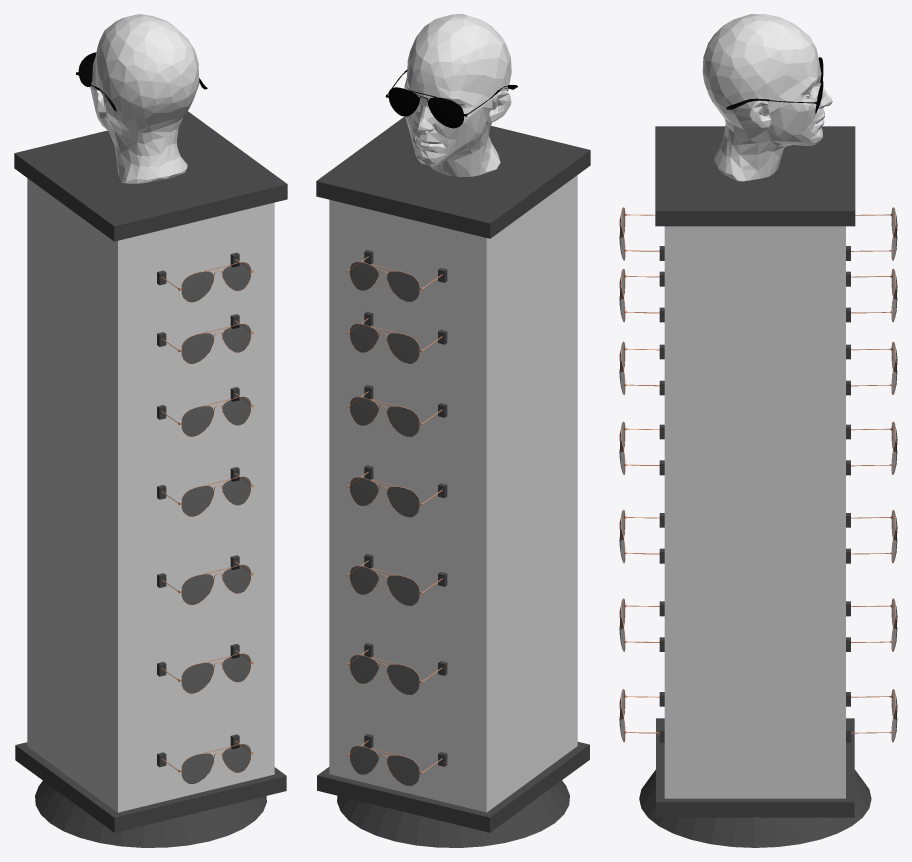
File: Sunglass.fbx
The picture shows the model from 3 angles, left to right: view 1: azimuth 30°, elevation 25°; view 2: azimuth 150°, elevation 25°; view 3: azimuth 270°, elevation 25°; orthographic projection.
Visible parts, largest first — view 1: Cube.030, Cube.033, 11091_FemaleHead_v4, Cylinder.015, Temples.006_Cylinder.009, Temples.006_Cylinder.001, Temples.006_Cylinder.007, Temples.006_Cylinder.003, Temples.006_Cylinder.011, Temples.006_Cylinder.005, Temples.006_Cylinder.013, Temples.006_Cylinder.017; view 2: Cube.030, Cube.033, 11091_FemaleHead_v4, Cylinder.015, Temples.006_Cylinder.017, Temples.006_Cylinder.006, Temples.006_Cylinder.002, Temples.006_Cylinder.008, Temples.006_Cylinder.012, Temples.006_Cylinder.019, Temples.006_Cylinder.004, Temples.006_Cylinder.010; view 3: Cube.030, Cube.033, 11091_FemaleHead_v4, Cylinder.015.
Part boxes in pixels (bbox=[...]): Cube.030: bbox=[15, 178, 286, 832]; Cube.033: bbox=[14, 111, 287, 241]; 11091_FemaleHead_v4: bbox=[90, 14, 199, 183]; Cylinder.015: bbox=[35, 781, 266, 847]; Temples.006_Cylinder.009: bbox=[162, 561, 253, 604]; Temples.006_Cylinder.001: bbox=[161, 259, 253, 302]; Temples.006_Cylinder.007: bbox=[161, 473, 253, 516]; Temples.006_Cylinder.003: bbox=[162, 320, 253, 363]; Temples.006_Cylinder.011: bbox=[161, 650, 253, 693]; Temples.006_Cylinder.005: bbox=[161, 393, 253, 436]; Temples.006_Cylinder.013: bbox=[161, 740, 253, 784]; Temples.006_Cylinder.017: bbox=[76, 52, 207, 111]; Cube.030: bbox=[317, 175, 589, 832]; Cube.033: bbox=[316, 116, 590, 238]; 11091_FemaleHead_v4: bbox=[404, 14, 511, 176]; Cylinder.015: bbox=[337, 780, 569, 847]; Temples.006_Cylinder.017: bbox=[385, 69, 517, 128]; Temples.006_Cylinder.006: bbox=[347, 471, 442, 517]; Temples.006_Cylinder.002: bbox=[347, 318, 442, 363]; Temples.006_Cylinder.008: bbox=[347, 560, 442, 605]; Temples.006_Cylinder.012: bbox=[347, 740, 442, 785]; Temples.006_Cylinder.019: bbox=[347, 256, 442, 301]; Temples.006_Cylinder.004: bbox=[347, 391, 442, 436]; Temples.006_Cylinder.010: bbox=[347, 649, 442, 694]; Cube.030: bbox=[656, 226, 854, 817]; Cube.033: bbox=[655, 126, 855, 226]; 11091_FemaleHead_v4: bbox=[702, 14, 832, 181]; Cylinder.015: bbox=[639, 769, 871, 847].
Bounding box in the file's own units: 103 × 380 × 123.
